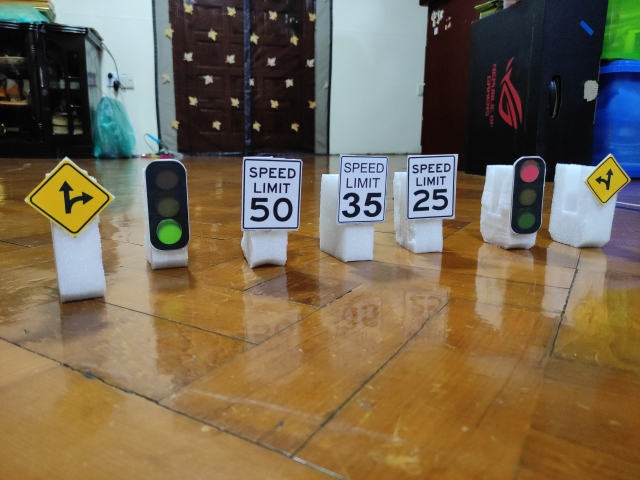Green Traffic Light: (144, 159, 192, 251)
Red Traffic Light: (512, 156, 546, 235)
Speed Limit 25: (406, 153, 457, 219)
Speed Limit 35: (337, 155, 388, 223)
Speed Limit 50: (241, 156, 304, 231)
Straight Or Left Sign: (585, 153, 630, 205)
Straight Or Right Sign: (27, 161, 113, 236)
